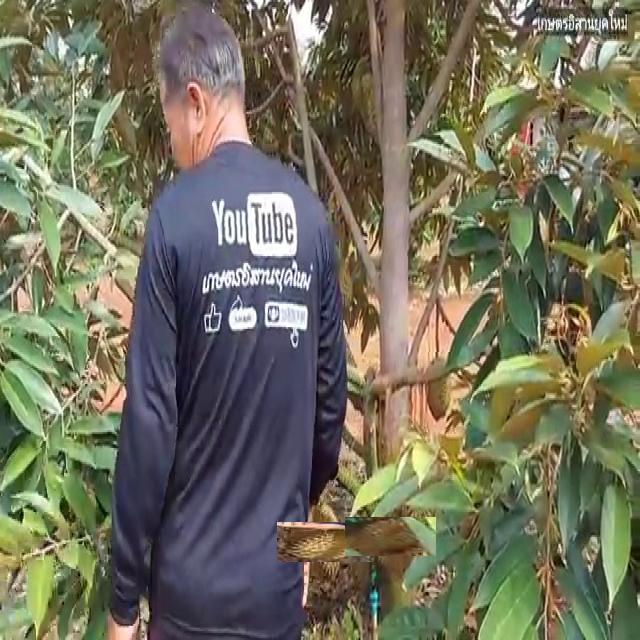durian: (291, 508, 358, 576), (358, 504, 423, 570), (422, 352, 456, 429)
